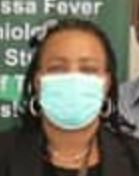with_facemask: (35, 75, 109, 135)
